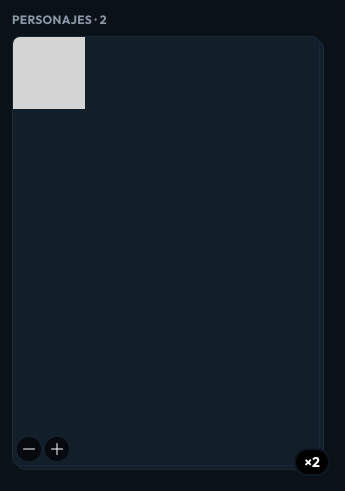
Scenario: DeckCard › añade una copia al pulsar más
The width and height of the screenshot is (345, 491).
Click the button named "Añadir una copia de Zoro".
click(57, 449)  # box [45,437,69,461]
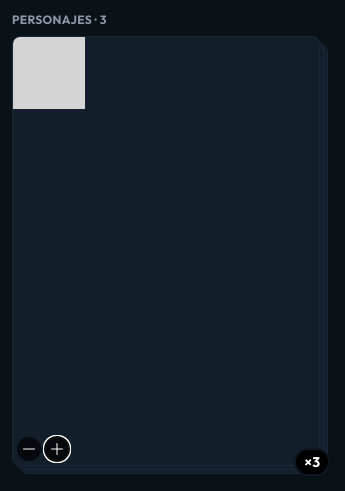
Expected: the text "×3" is shown, [296,450,328,474]
